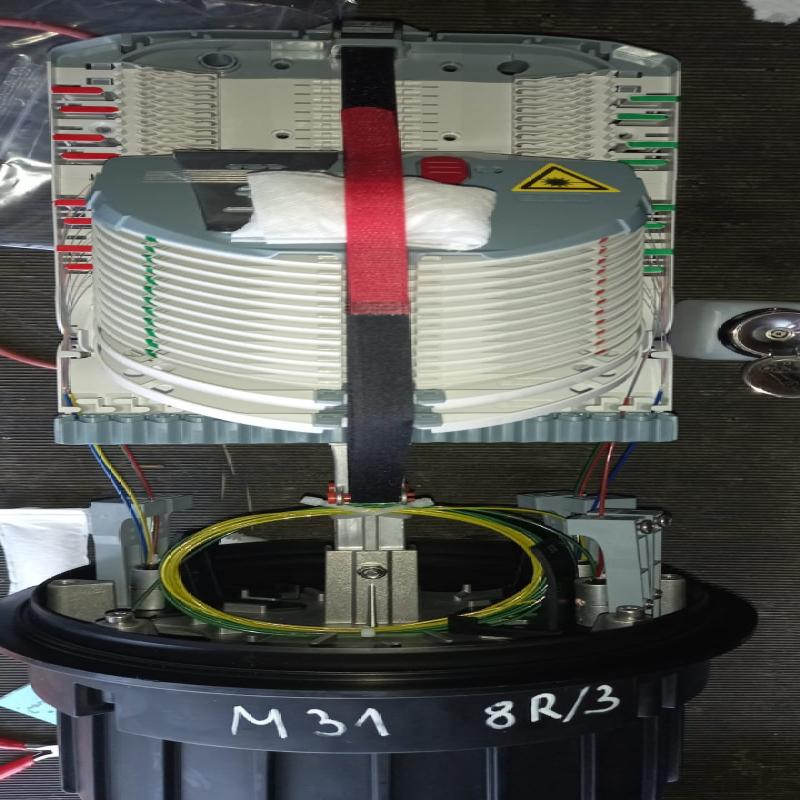NT-Muffen: (19, 28, 770, 798)
